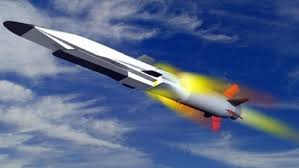ten_lua: (7, 15, 248, 121)
